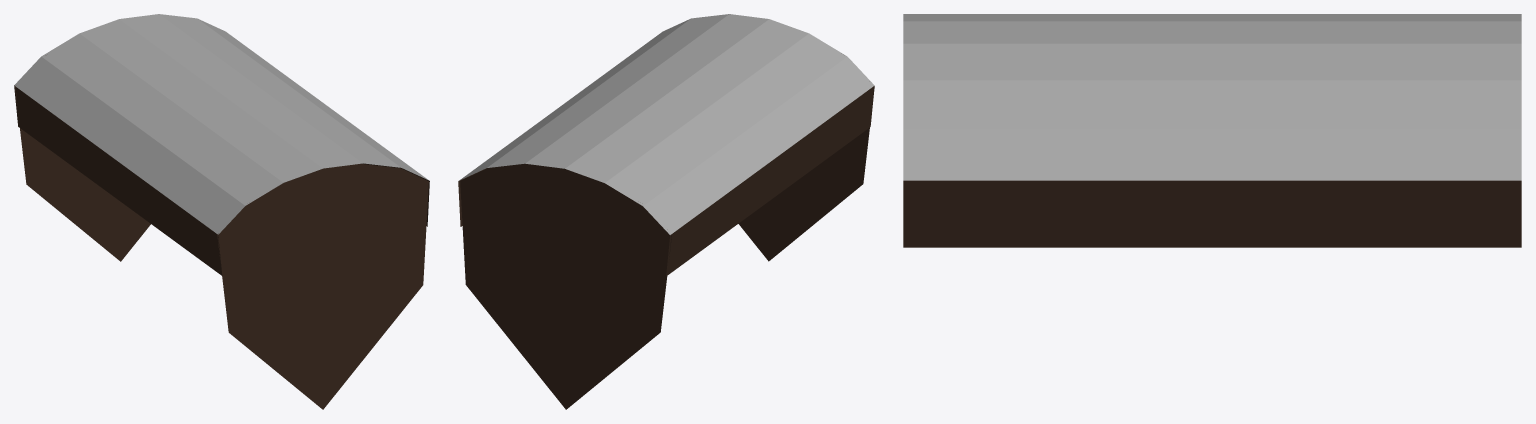
File: lswr-brake-lookout.dae
The picture shows the model from 3 angles, left to right: view 1: azimuth 30°, elevation 25°; view 2: azimuth 150°, elevation 25°; view 3: azimuth 270°, elevation 25°; orthographic projection. The views are drawn at different scales.
Parts seen in each view (by area): view 1: Tube_001, Cylinder_011, Cylinder_016; view 2: Tube_001, Cylinder_016, Cylinder_011; view 3: Tube_001.
Part boxes in pixels (x1=…): Tube_001: x1=14, y1=14, x2=429, y2=275; Cylinder_011: x1=217, y1=164, x2=428, y2=409; Cylinder_016: x1=15, y1=86, x2=150, y2=261; Tube_001: x1=458, y1=14, x2=874, y2=276; Cylinder_016: x1=460, y1=163, x2=671, y2=409; Cylinder_011: x1=738, y1=86, x2=874, y2=261; Tube_001: x1=903, y1=14, x2=1521, y2=247.
Bounding box in the file's own units: 0.9347 × 1.56 × 1.02.
